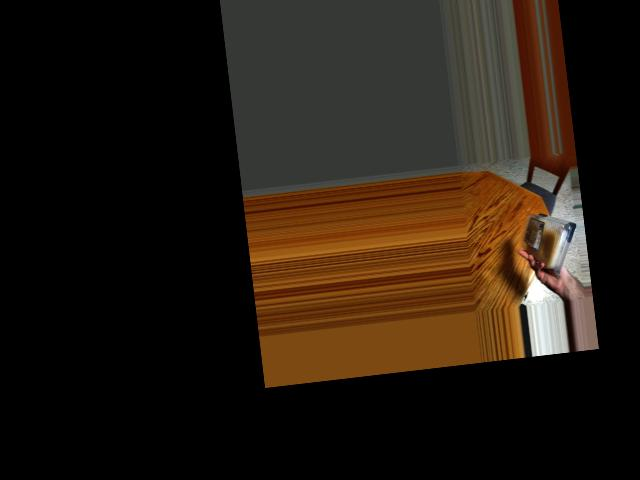cheese: (524, 209, 572, 272)
